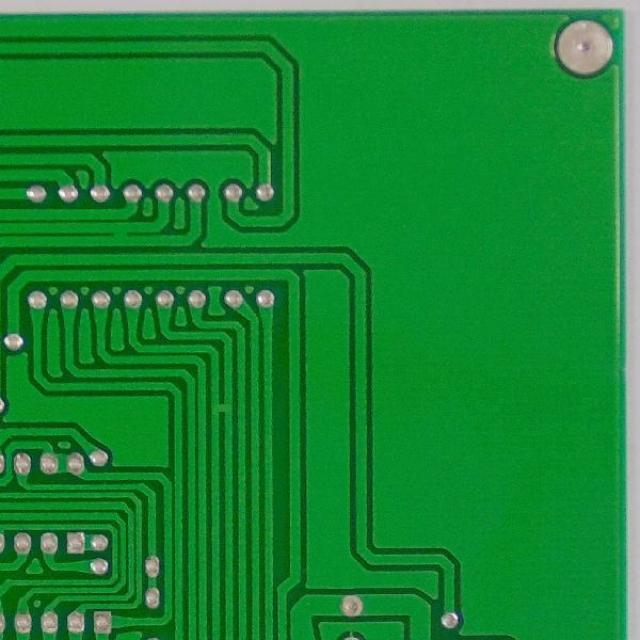short: (104, 222, 134, 247), (211, 396, 233, 417)
